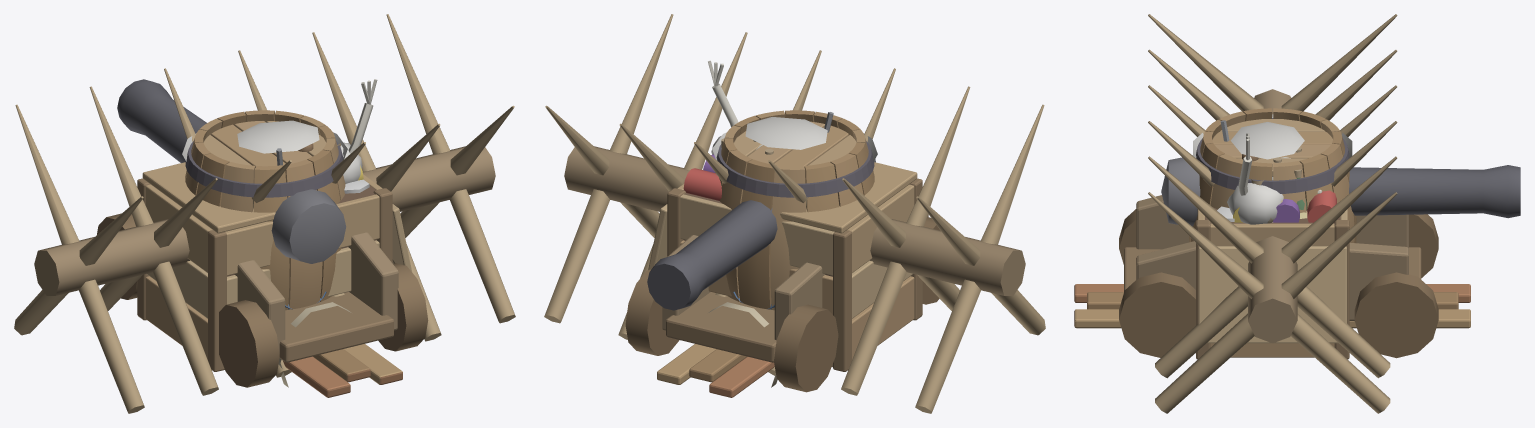
File: loot.glb
The picture shows the model from 3 angles, left to right: view 1: azimuth 30°, elevation 25°; view 2: azimuth 150°, elevation 25°; view 3: azimuth 270°, elevation 25°; orthographic projection.
Parts seen in each view (by area): view 1: barricade, cannon_carriage, crate_hueso, brine_barrel, planks, crate_salt; view 2: barricade, cannon_carriage, crate_hueso, brine_barrel, planks, crate_silk; view 3: cannon_carriage, barricade, brine_barrel, crate_hueso, planks, crate_salt, crate_silk.
Part boxes in pixels (x1,y1,x2,y2): barricade: [14, 14, 515, 413]; cannon_carriage: [97, 79, 428, 387]; crate_hueso: [137, 79, 411, 371]; brine_barrel: [182, 110, 347, 310]; planks: [278, 302, 402, 397]; crate_salt: [337, 142, 369, 193]; barricade: [544, 14, 1045, 413]; cannon_carriage: [625, 159, 940, 392]; crate_hueso: [648, 60, 922, 371]; brine_barrel: [712, 110, 877, 310]; planks: [657, 302, 777, 397]; crate_silk: [683, 154, 721, 200]; cannon_carriage: [1119, 157, 1520, 358]; barricade: [1148, 14, 1397, 413]; brine_barrel: [1189, 108, 1356, 242]; crate_hueso: [1196, 120, 1349, 359]; planks: [1074, 284, 1470, 328]; crate_salt: [1217, 178, 1283, 224]; crate_silk: [1233, 190, 1336, 222].
Bounding box in the file's own units: 2 × 1.13 × 1.8.
